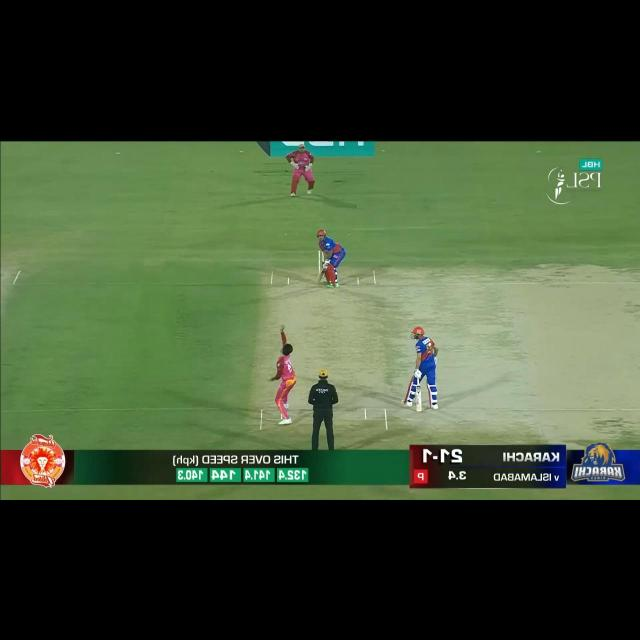bat: (316, 268, 326, 285), (416, 386, 422, 412)
toe: (416, 406, 422, 413), (315, 280, 321, 285)
